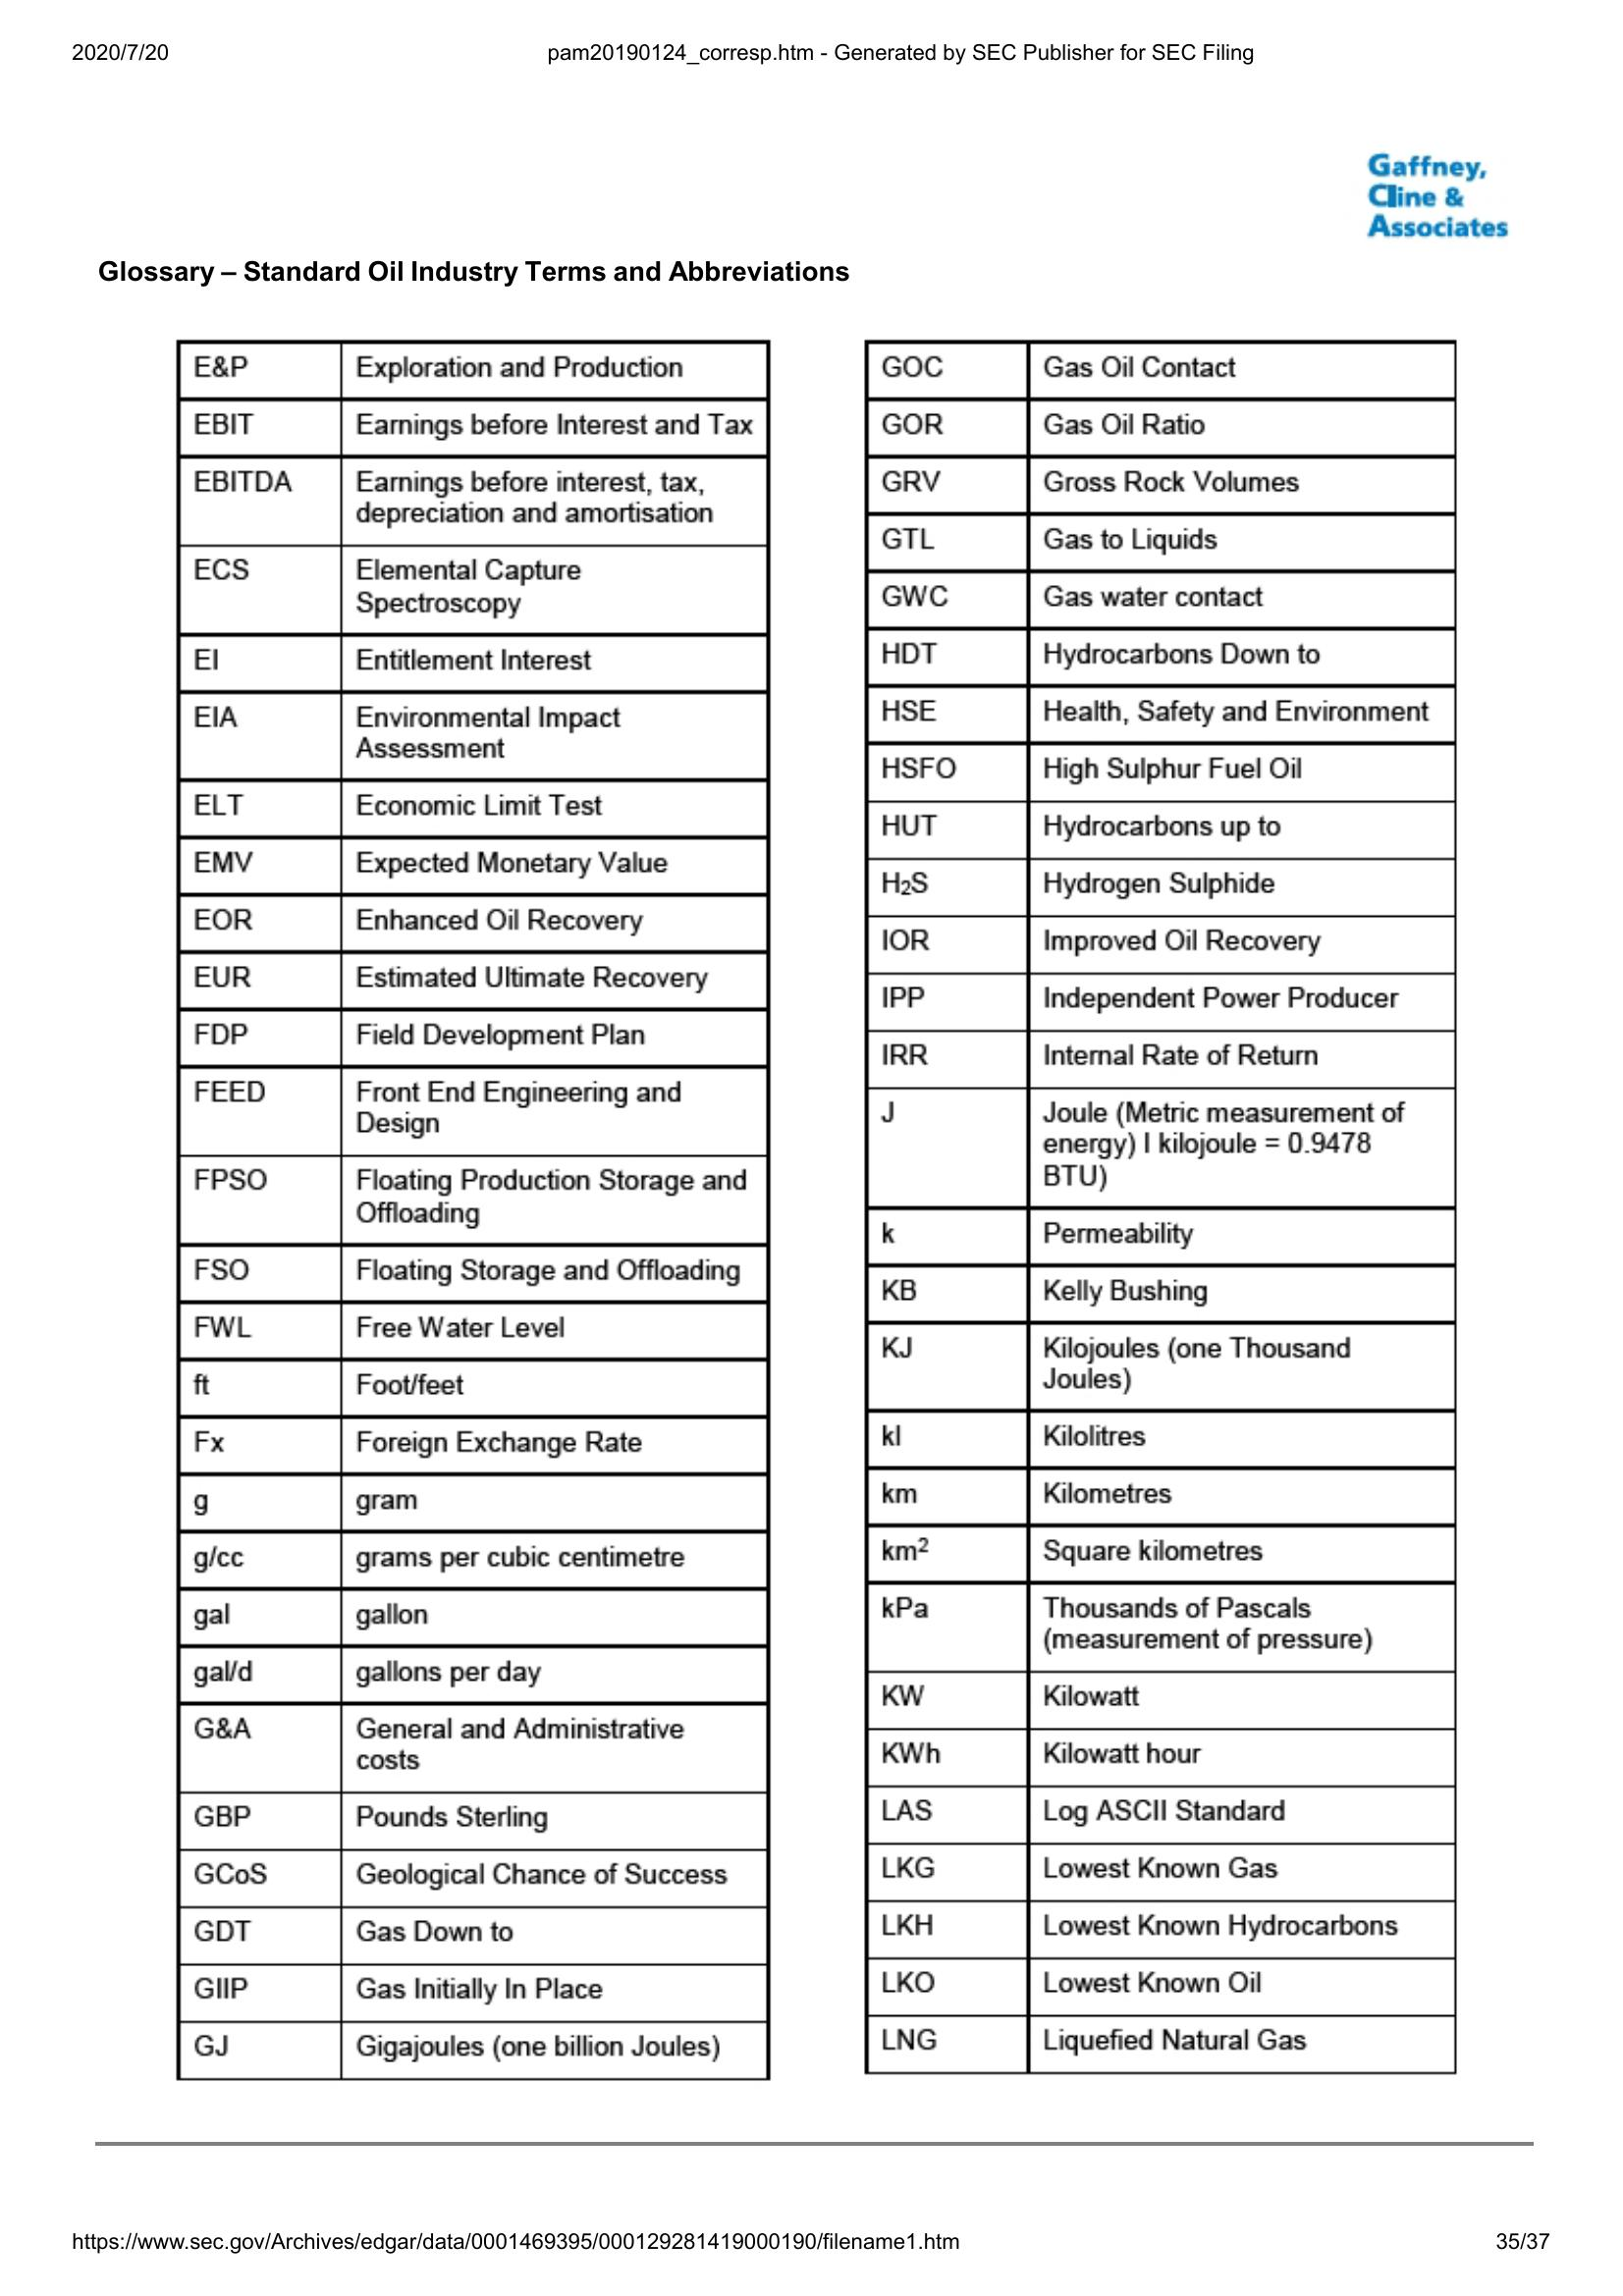table: (854, 326, 1463, 2082), (169, 335, 776, 2092)
